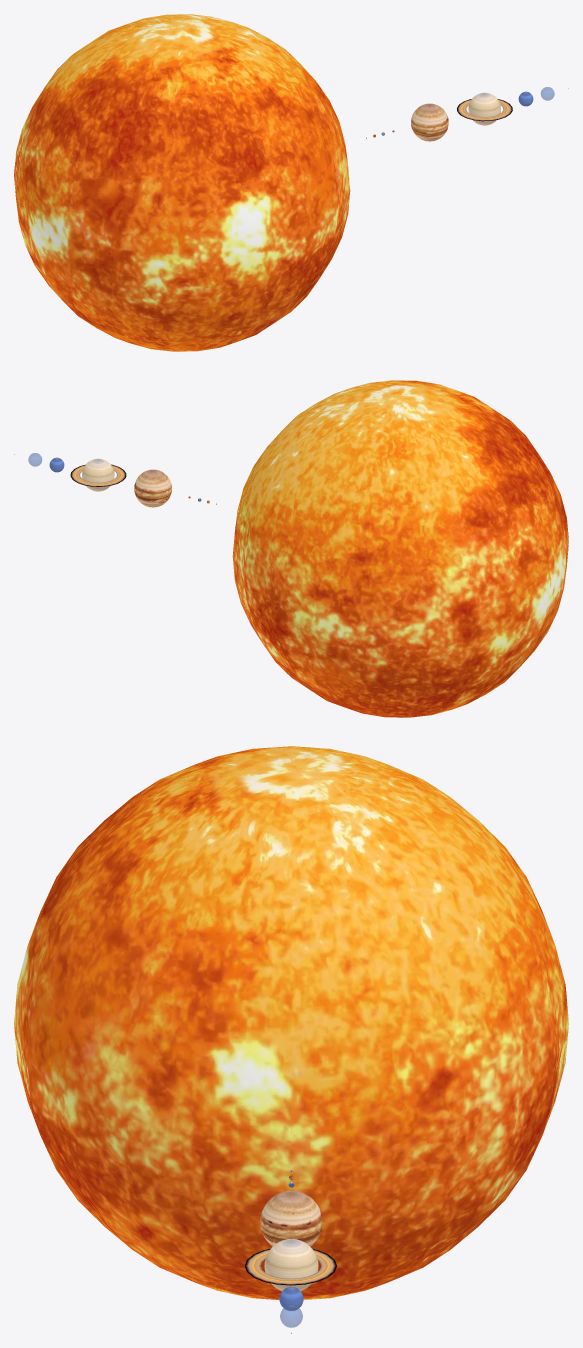
The model's file is solar-transformed.glb.
3 views of the same model, one above another, from view 1: azimuth 30°, elevation 25°; view 2: azimuth 150°, elevation 25°; view 3: azimuth 270°, elevation 25° (orthographic). The views are drawn at different scales.
Visible parts, largest first — view 1: Sol1; view 2: Sol1; view 3: Sol1.
Boxes of the visible parts, x1,y1,x2,y2 form: Sol1: (14, 14, 568, 351); Sol1: (14, 380, 568, 717); Sol1: (14, 746, 568, 1333).
Size of the model in its own units: 1540 by 846 by 846.
11 materials, 11 textured.
